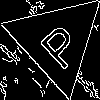P: (31, 16, 86, 72)
